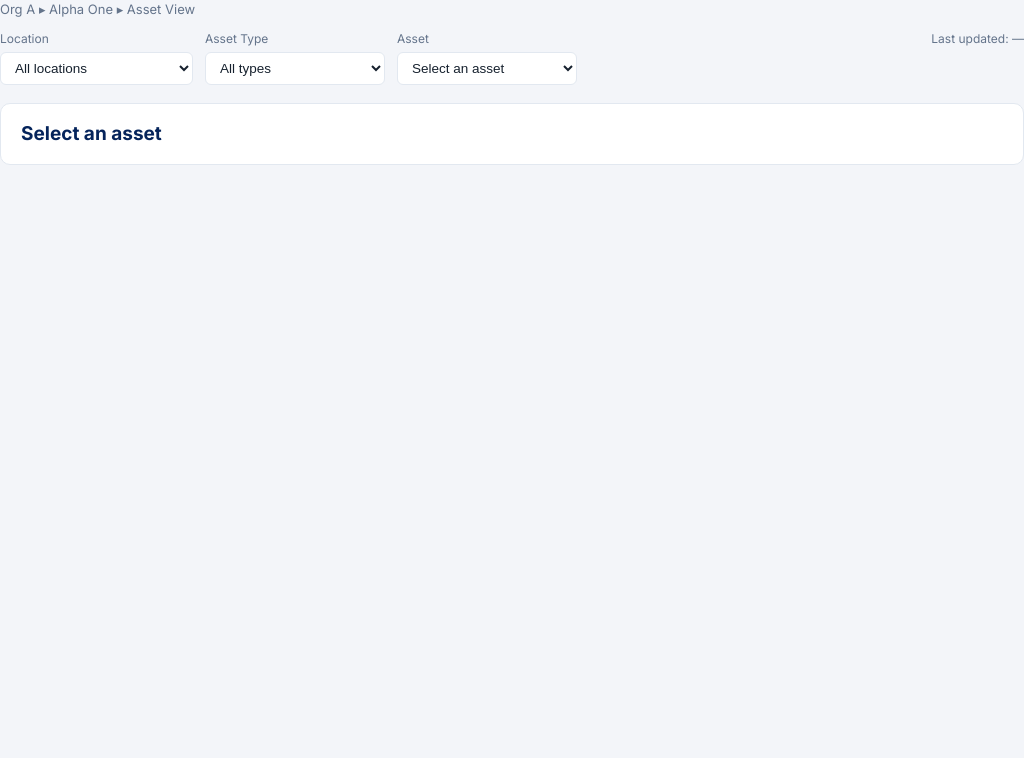
Scenario: AssetView › parameter-specific phase labels and unit placement › uses parameter-specific phase labels for Voltage, Current, Power Factor, and Current THD -- never a generic P1/P2/P3 for all of them
The image size is (1024, 758).
Select "AHU 01" in the dropdown with test id "filter-asset": (487, 68) left=397, top=52, right=577, bottom=84
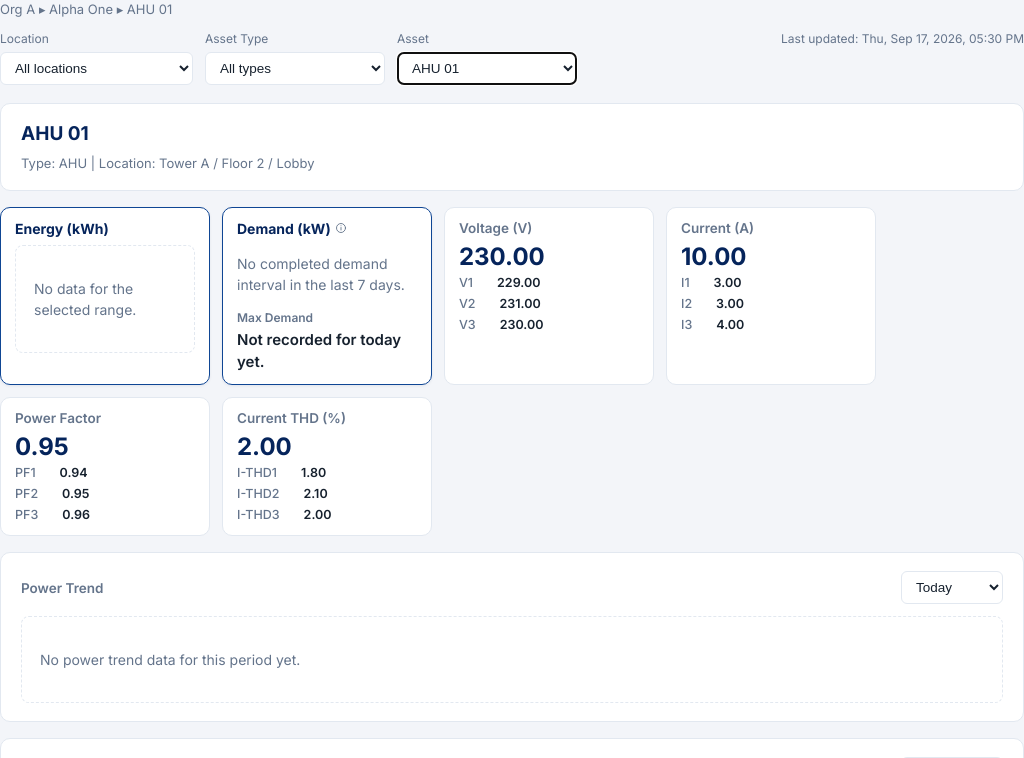
expect the element with test id "live-param-voltage" shows "230.00": met, box left=459, top=242, right=545, bottom=271
expect the text "V1" is shown: met, box left=459, top=274, right=473, bottom=293
expect the text "V2" is shown: met, box left=459, top=295, right=476, bottom=314
